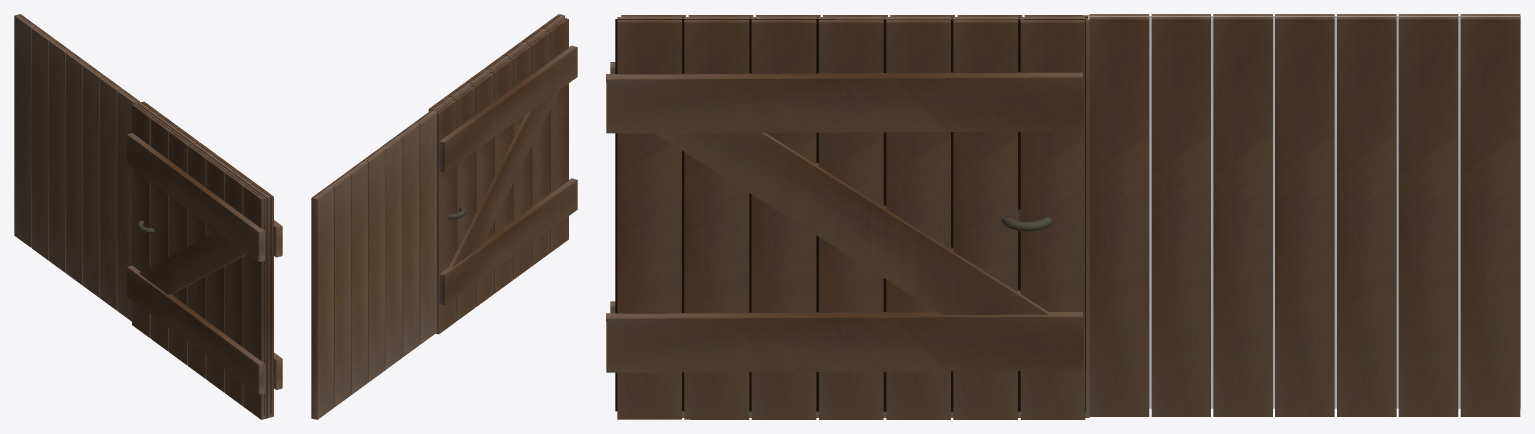
Rendered from Door.glb.
3 views of the same model, side by side, from view 1: azimuth 30°, elevation 25°; view 2: azimuth 150°, elevation 25°; view 3: azimuth 270°, elevation 25° (orthographic). The views are drawn at different scales.
Parts seen in each view (by area): view 1: Plane.014, Plane.013; view 2: Plane.014, Plane.013; view 3: Plane.014, Plane.013.
Part boxes in pixels (x1,y1,x2,y2): Plane.014: [126, 101, 282, 419]; Plane.013: [14, 14, 139, 321]; Plane.014: [428, 14, 577, 334]; Plane.013: [311, 110, 436, 419]; Plane.014: [606, 15, 1089, 419]; Plane.013: [1088, 14, 1520, 416].
Size of the model in its own units: 0.5463 by 4.09 by 8.45.
Materials: 5 (2 with a texture image).
